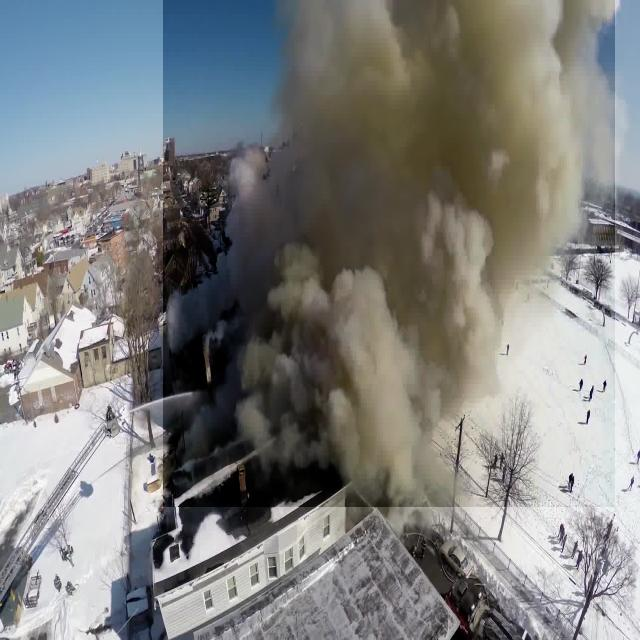Smoke: (164, 0, 616, 507)
